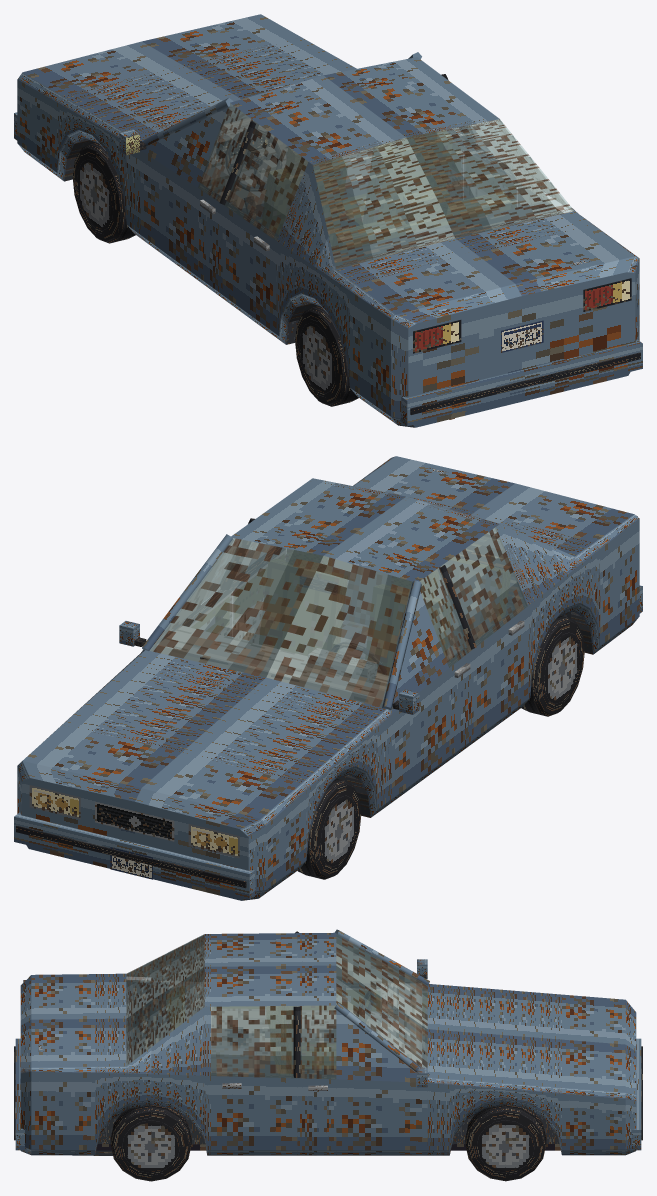
File: VEH_Sedan_Dusty.glb
3 views of the same model, one above another, from view 1: azimuth 30°, elevation 25°; view 2: azimuth 150°, elevation 25°; view 3: azimuth 270°, elevation 25° (orthographic). The views are drawn at different scales.
Visible parts, largest first — view 1: Body, Hood, Trunk, Door_FL, Door_RL, Wheel_RL, Wheel_FL, Door_RR, SteeringWheel, Door_FR; view 2: Body, Hood, Door_FL, Trunk, Door_RL, Wheel_FL, Wheel_RL, Door_FR, Door_RR; view 3: Body, Hood, Door_FR, Door_RR, Trunk, Wheel_RR, Wheel_FR, Door_FL, Door_RL.
Boxes of the visible parts, left/top/right/bottom form: Body: left=14, top=52, right=642, bottom=427; Hood: left=23, top=14, right=356, bottom=141; Trunk: left=336, top=211, right=634, bottom=314; Door_FL: left=119, top=103, right=254, bottom=302; Door_RL: left=222, top=121, right=308, bottom=342; Wheel_RL: left=295, top=306, right=358, bottom=406; Wheel_FL: left=72, top=142, right=135, bottom=243; Door_RR: left=464, top=120, right=517, bottom=208; SteeringWheel: left=225, top=129, right=281, bottom=191; Door_FR: left=446, top=128, right=466, bottom=203; Body: left=14, top=456, right=642, bottom=900; Hood: left=22, top=650, right=386, bottom=818; Door_FL: left=377, top=565, right=473, bottom=812; Trunk: left=354, top=456, right=634, bottom=556; Door_RL: left=442, top=527, right=527, bottom=747; Wheel_FL: left=298, top=779, right=361, bottom=879; Wheel_RL: left=521, top=616, right=584, bottom=716; Door_FR: left=119, top=538, right=242, bottom=659; Door_RR: left=229, top=542, right=285, bottom=643; Body: left=14, top=929, right=642, bottom=1155; Hood: left=427, top=984, right=625, bottom=1092; Door_FR: left=297, top=1005, right=440, bottom=1155; Door_RR: left=211, top=1006, right=297, bottom=1155; Trunk: left=31, top=973, right=126, bottom=1067; Wheel_RR: left=110, top=1105, right=191, bottom=1181; Wheel_FR: left=465, top=1105, right=546, bottom=1181; Door_FL: left=298, top=938, right=427, bottom=1051; Door_RL: left=211, top=1006, right=296, bottom=1054.
Size of what is drawn, in the model's own units: 2.07 by 1.44 by 4.82.
3 materials, 3 textured.
